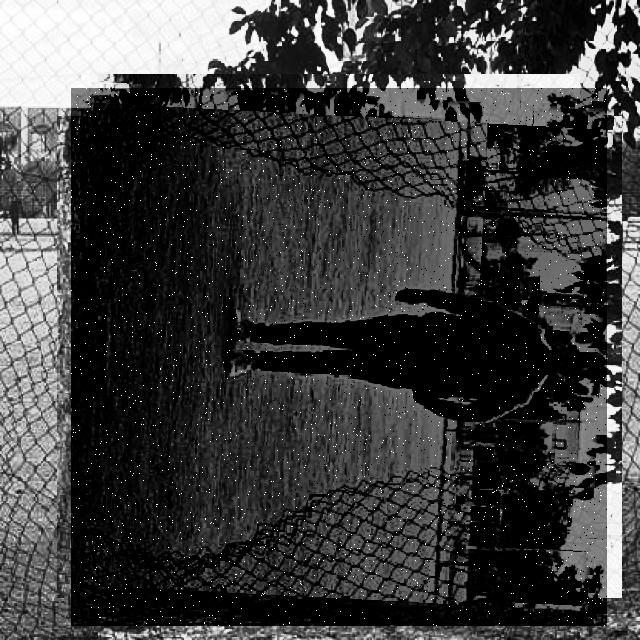anomaly-fence: (71, 88, 607, 626)
